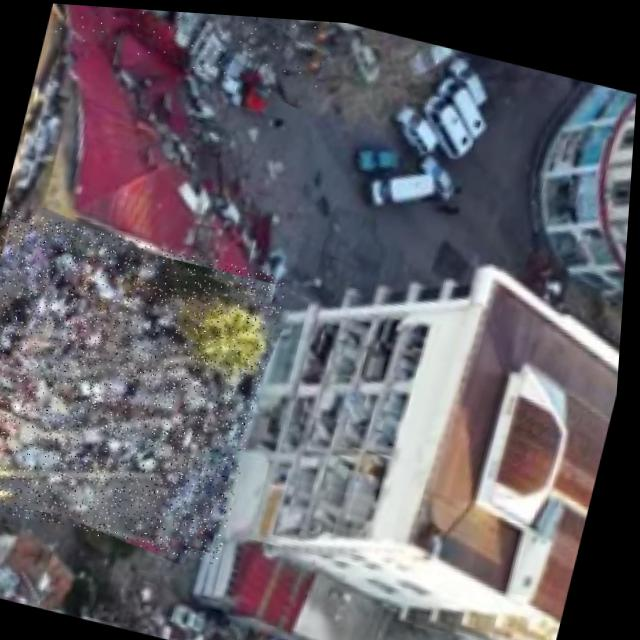Rubble: (0, 205, 293, 563), (42, 2, 334, 94)
